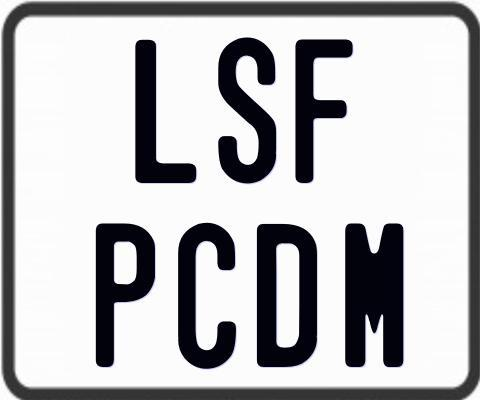C: (178, 221, 236, 367)
D: (256, 224, 319, 371)
F: (292, 36, 350, 184)
L: (134, 40, 195, 187)
M: (342, 222, 405, 369)
P: (93, 221, 152, 369)
S: (215, 36, 277, 183)
